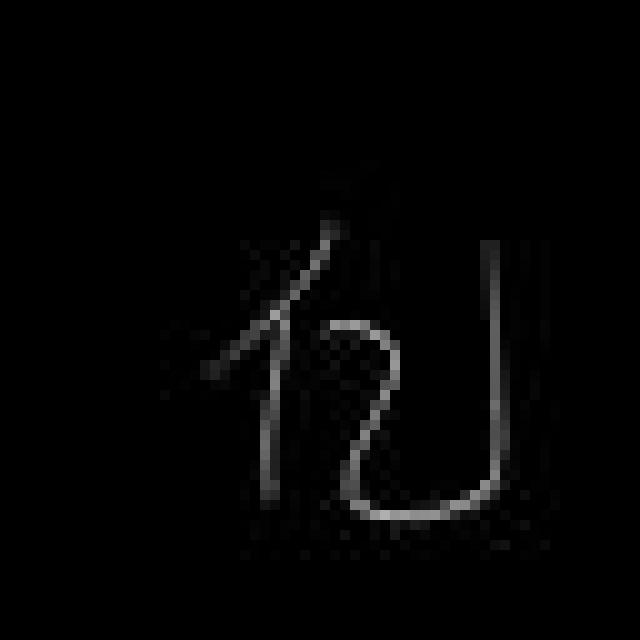100000 -a hundred thousand-: (202, 223, 519, 539)
